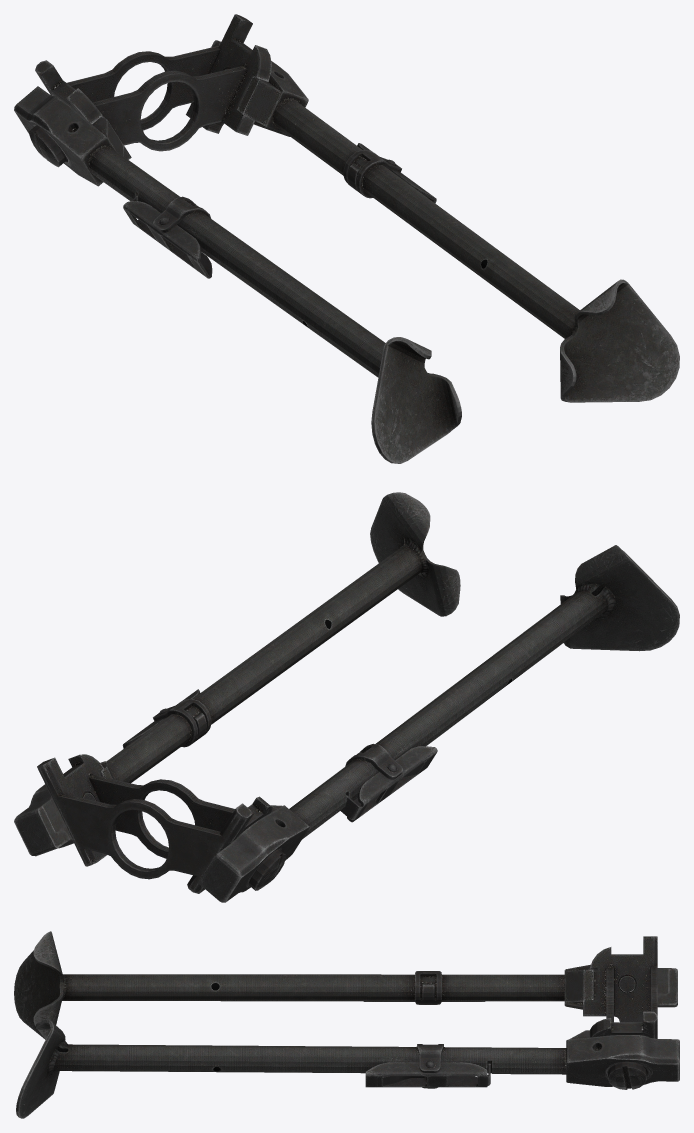
3 views of the same model, one above another, from view 1: azimuth 30°, elevation 25°; view 2: azimuth 150°, elevation 25°; view 3: azimuth 270°, elevation 25° (orthographic). The views are drawn at different scales.
Parts seen in each view (by area): view 1: TW_66012d9a3dff5074ed002e33_PZ_Import; view 2: TW_66012d9a3dff5074ed002e33_PZ_Import; view 3: TW_66012d9a3dff5074ed002e33_PZ_Import.
Part boxes in pixels (left/top/right/bottom): TW_66012d9a3dff5074ed002e33_PZ_Import: left=14, top=14, right=679, bottom=463; TW_66012d9a3dff5074ed002e33_PZ_Import: left=14, top=492, right=679, bottom=902; TW_66012d9a3dff5074ed002e33_PZ_Import: left=14, top=931, right=679, bottom=1118.
Bounding box in the file's own units: 0.0713 × 0.1618 × 0.0256.
1 material, 1 textured.
